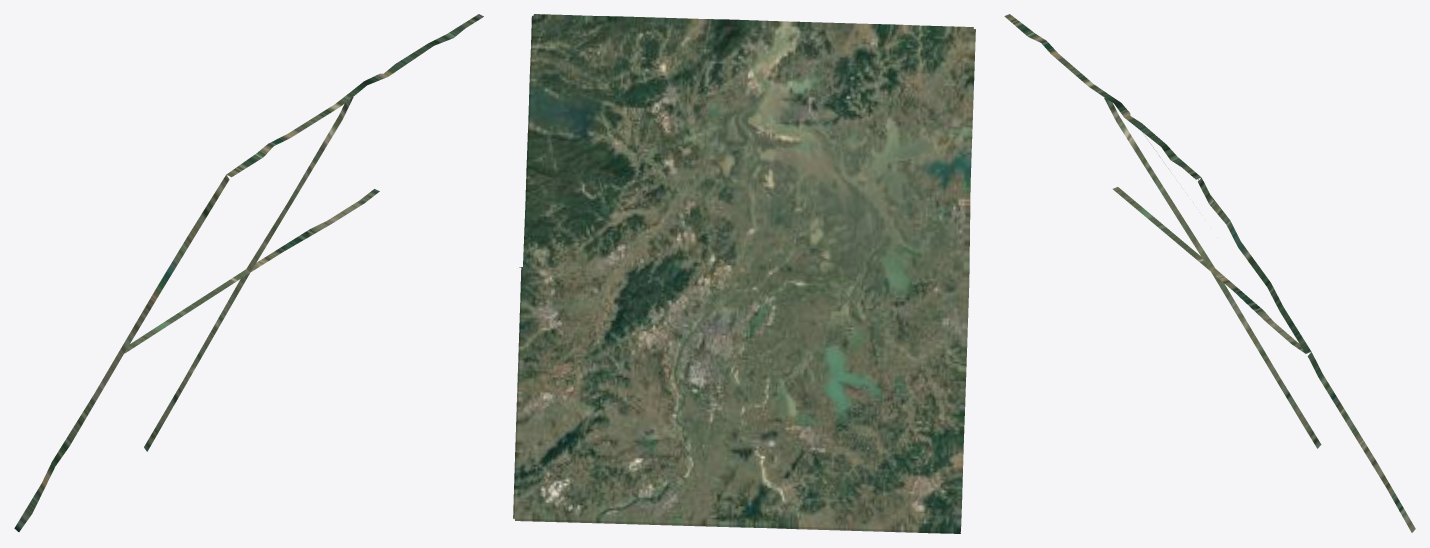
3 renders of one model, left to right at view 1: azimuth 30°, elevation 25°; view 2: azimuth 150°, elevation 25°; view 3: azimuth 270°, elevation 25°, orthographic. The views are drawn at different scales.
Bounding box in the file's own units: 158679 × 139629 × 130016.
1 material, 1 textured.
